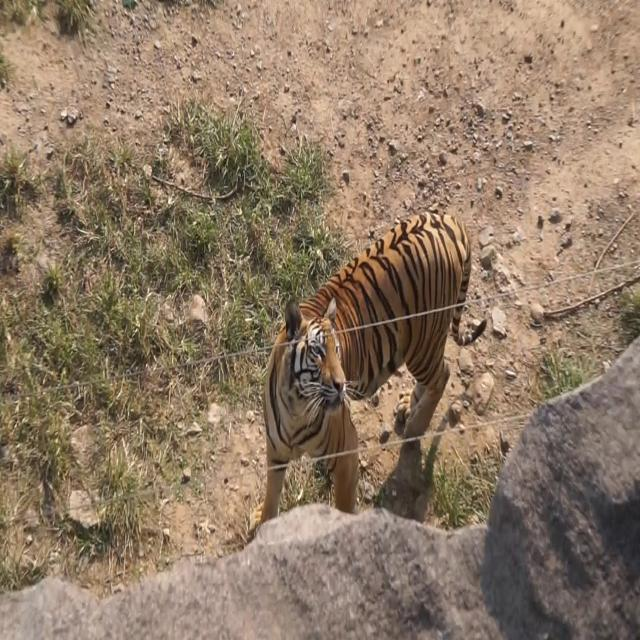Tiger: (240, 219, 483, 531)
